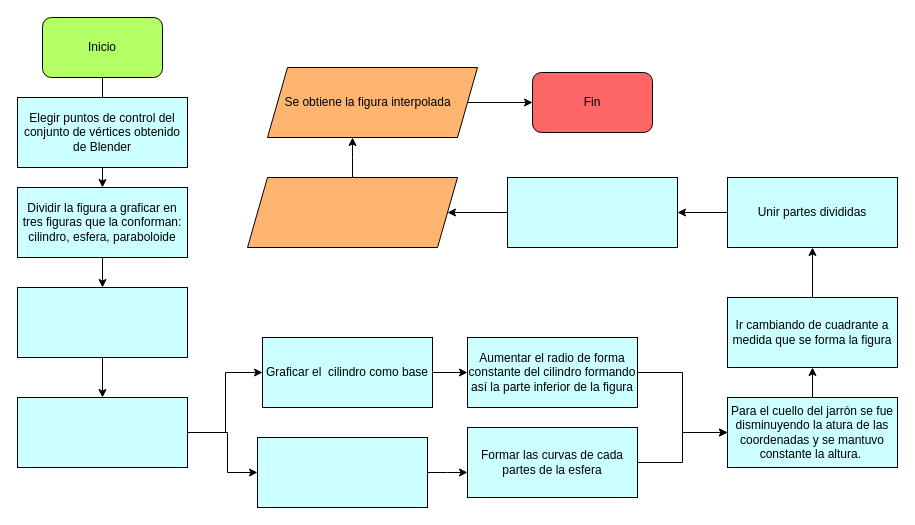
Some shapes in this 915 by 525 pixel diagram are drawn without their labels. Here are the shapes that lost their labels. From the top down, the box of each, then its label:
(246, 176, 458, 248): Se obtienen los puntos de la curva de Bézier
(506, 176, 678, 248): Enviar puntos a función de Bézier
(16, 286, 188, 358): Se divide además la figura en cuatro cuadrantes
(16, 396, 188, 468): Cargar puntos de control elegidos
(256, 436, 428, 508): Dividir la esfera en dos partes: inferior, superior
